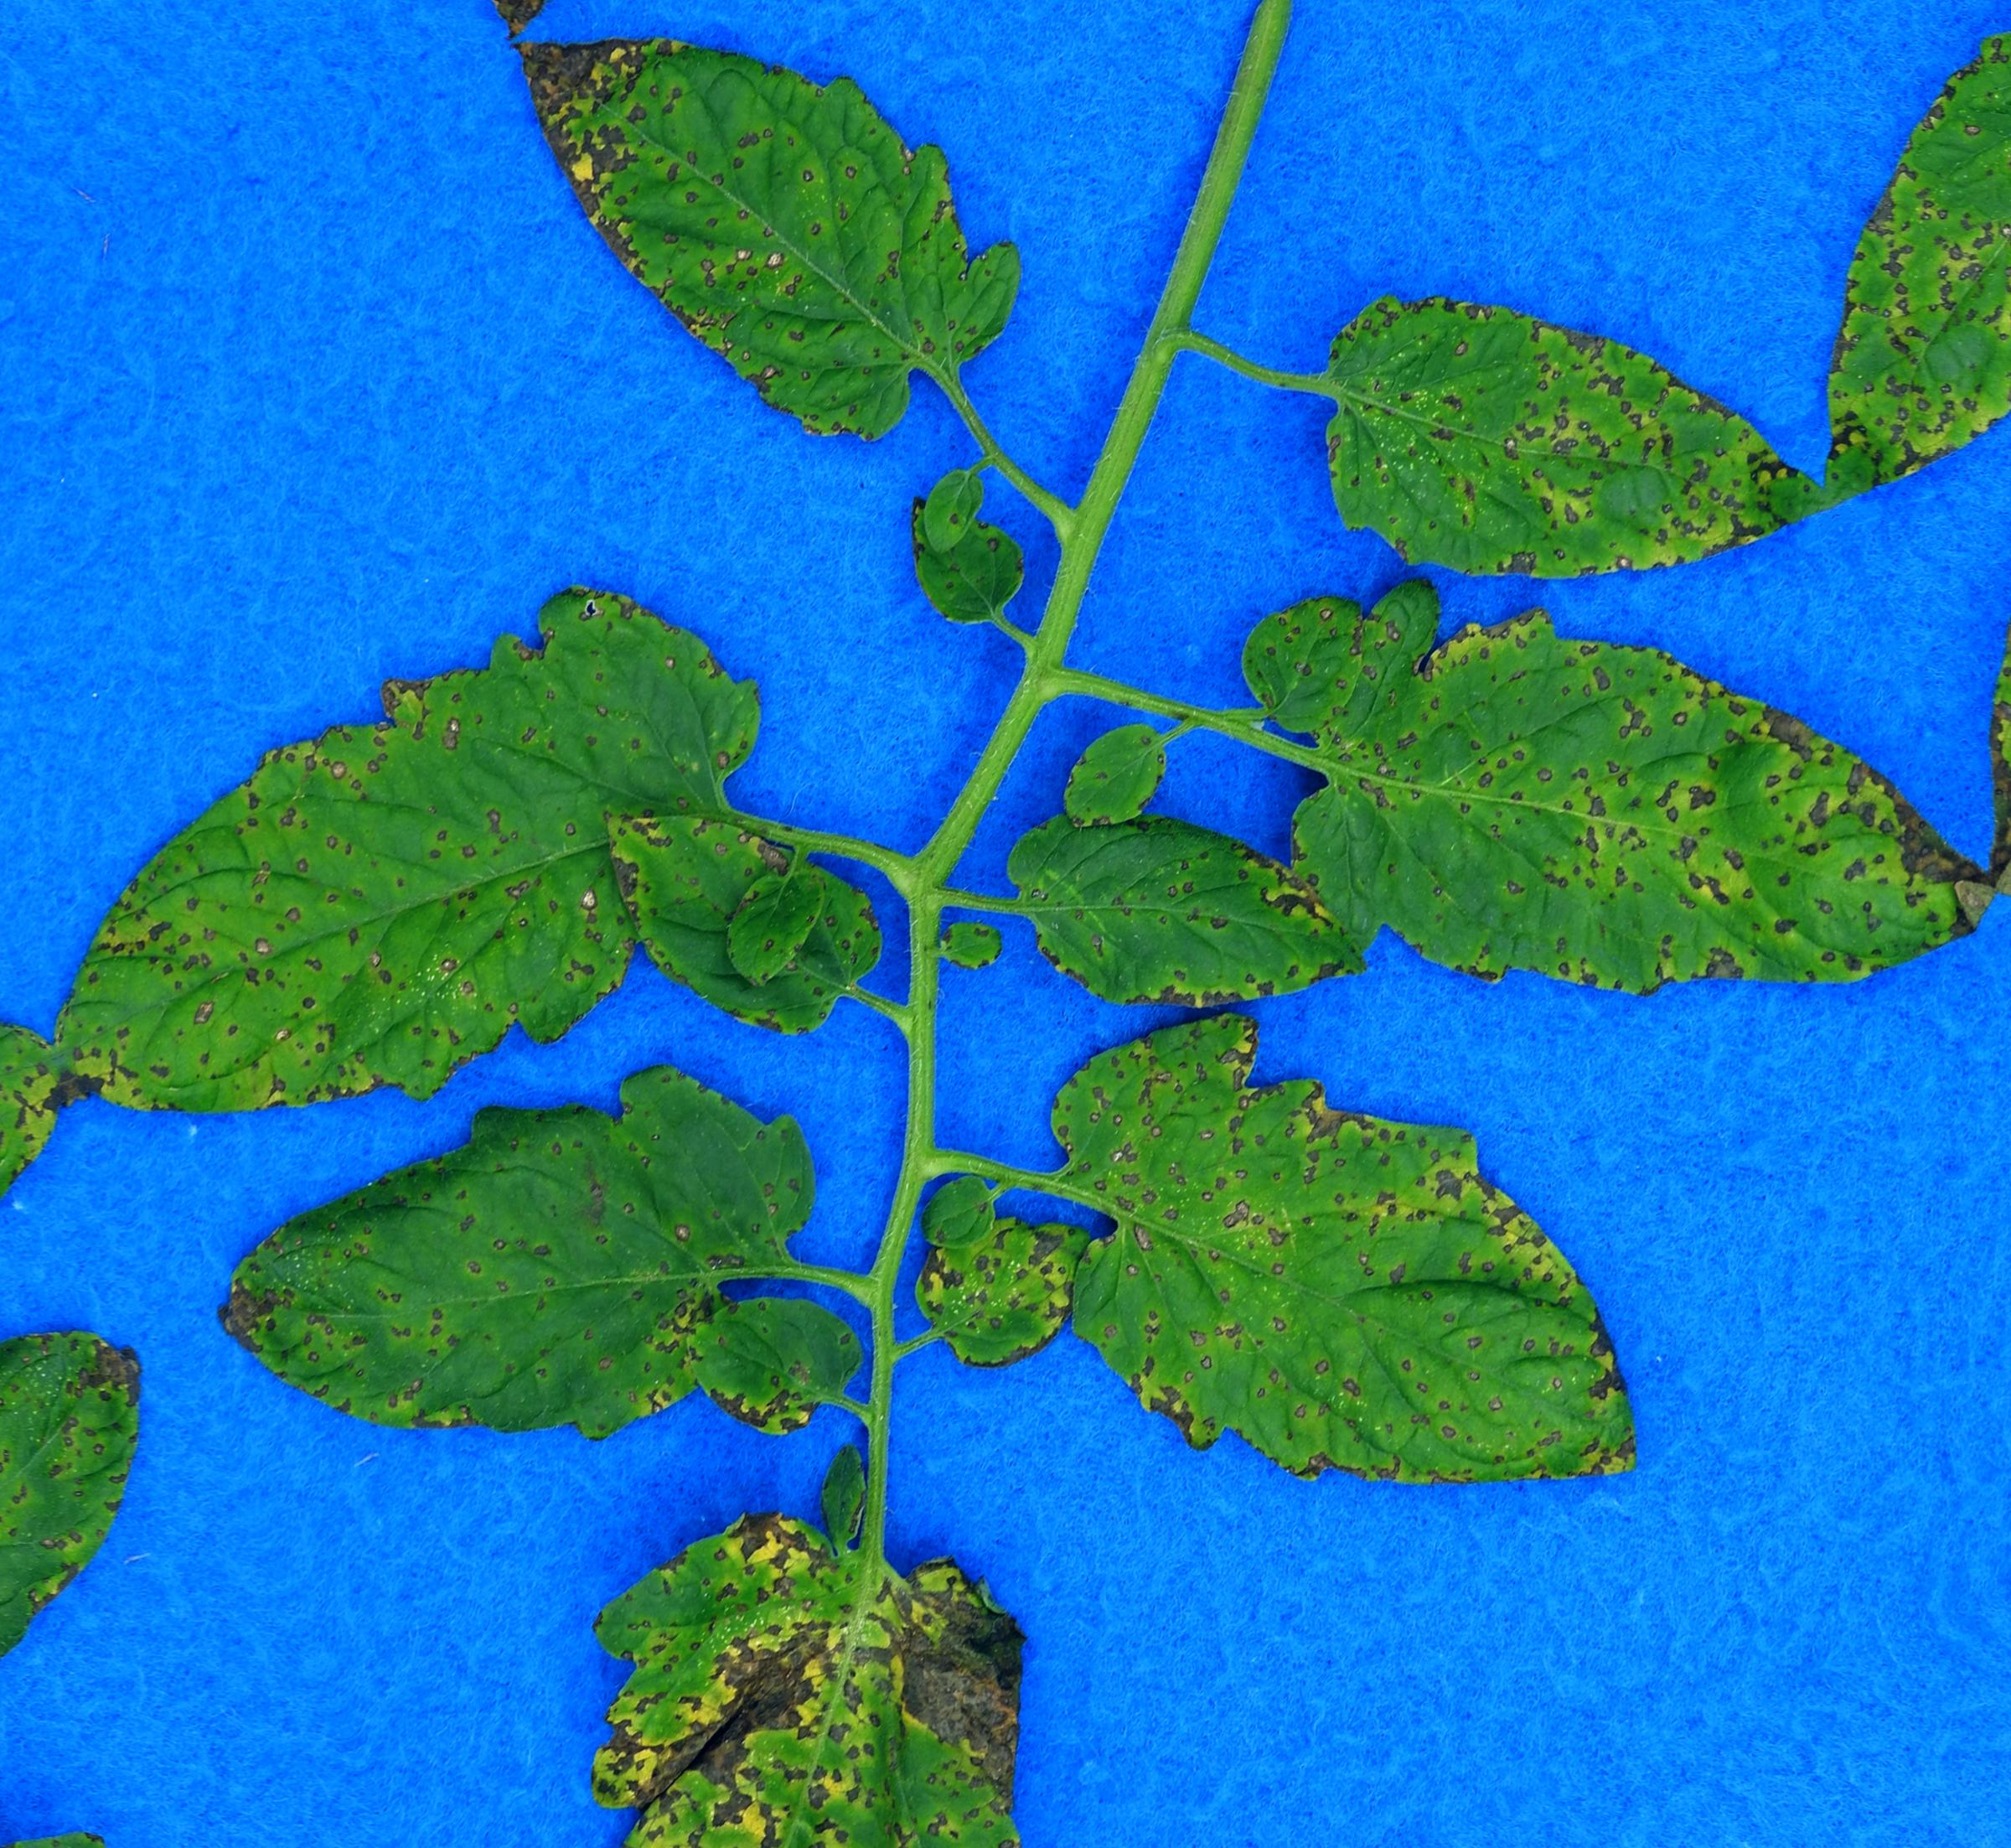Tomato Septoria leaf spot: (0, 485, 967, 1251), (1177, 426, 2009, 1189), (138, 963, 939, 1690), (969, 899, 1680, 1650), (384, 1396, 1195, 1848), (462, 0, 1097, 545), (1230, 156, 1838, 722), (977, 729, 1375, 1105), (575, 725, 934, 1126)
